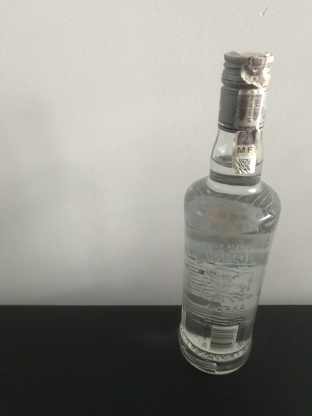nakretka: (216, 47, 275, 134)
